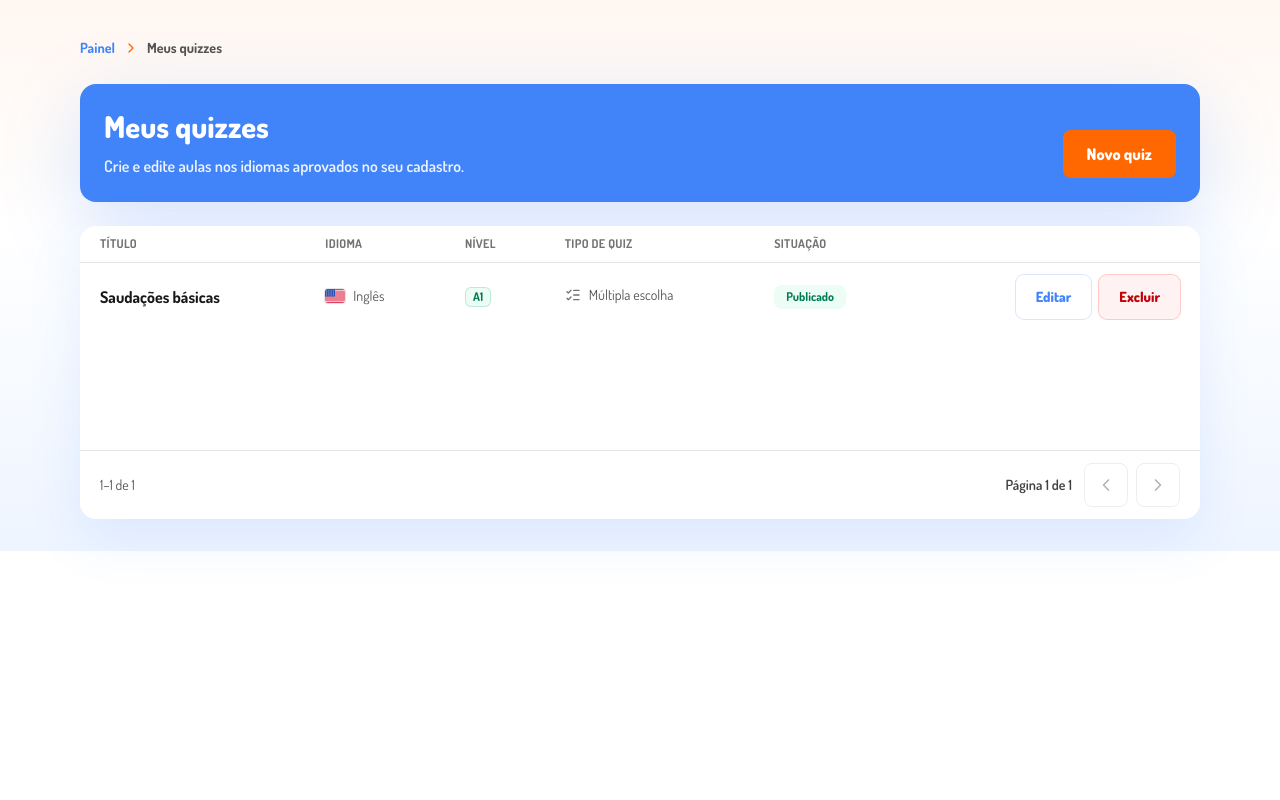
Scenario: TeacherQuizzesPanel › oferece apenas os idiomas aprovados no formulário
Click the button "Novo quiz".
click(1119, 154)  # box [1062,130,1176,178]
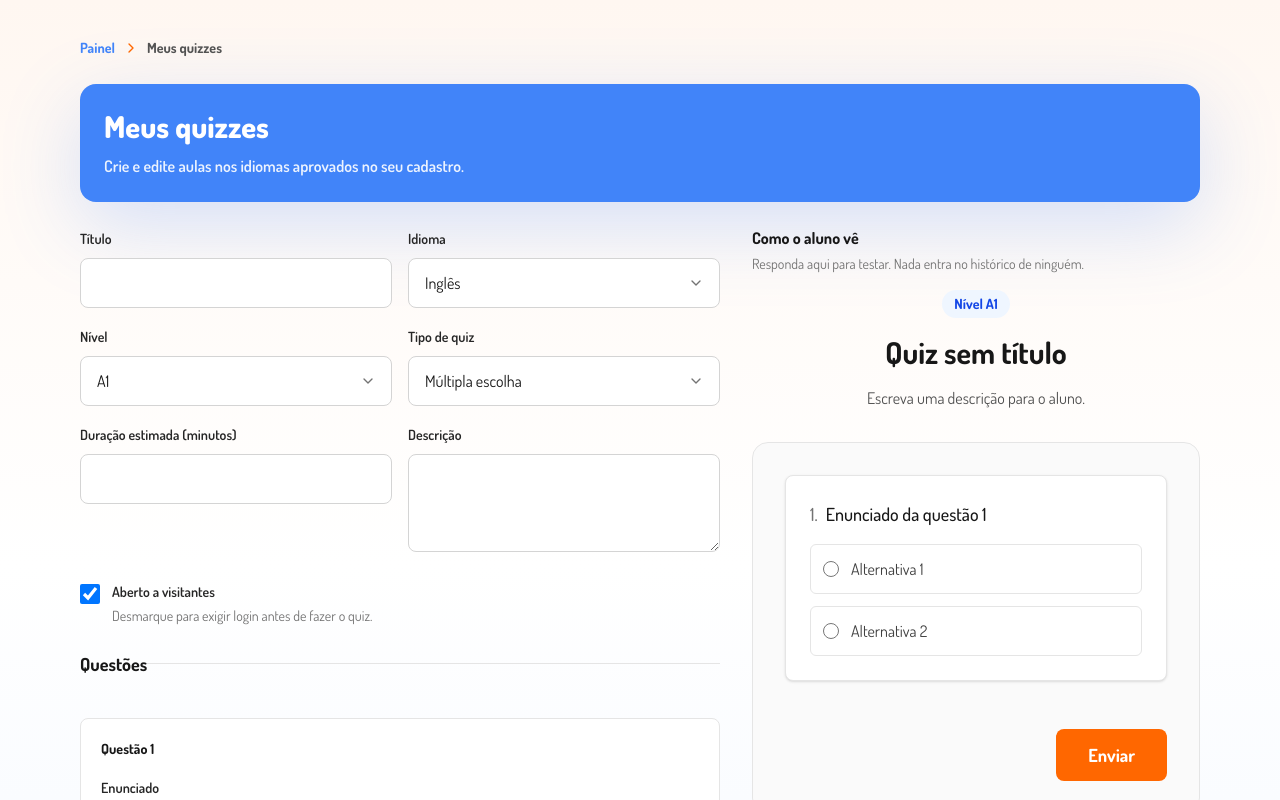
Click the dropdown named "Idioma".
click(443, 282)  # box [408,258,720,308]
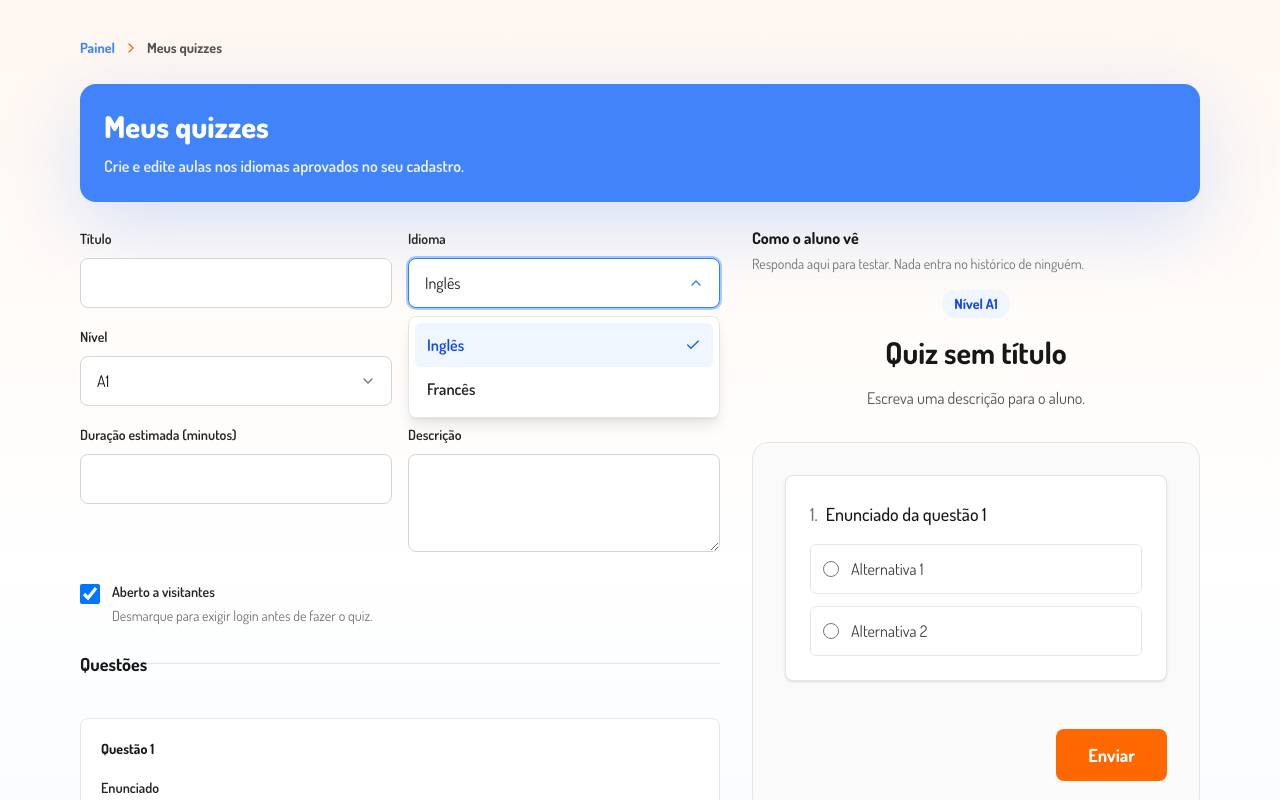
Now the options read "Inglês", "Francês", in this order, box [415,322,713,366]; [427,378,475,398]
